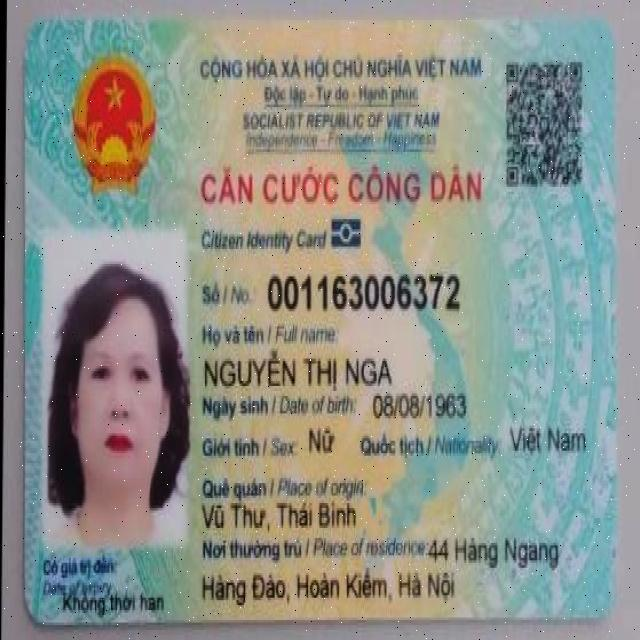current_place: (202, 563, 456, 606), (429, 532, 562, 572)
dob: (373, 387, 468, 423)
expire_date: (60, 587, 167, 616)
gender: (306, 422, 337, 458)
id: (266, 268, 463, 314)
name: (204, 347, 394, 393)
nationality: (509, 421, 591, 462)
origin_place: (202, 495, 361, 533)
